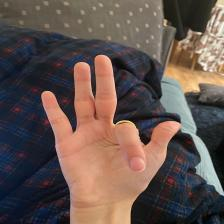five: (36, 53, 184, 213)
